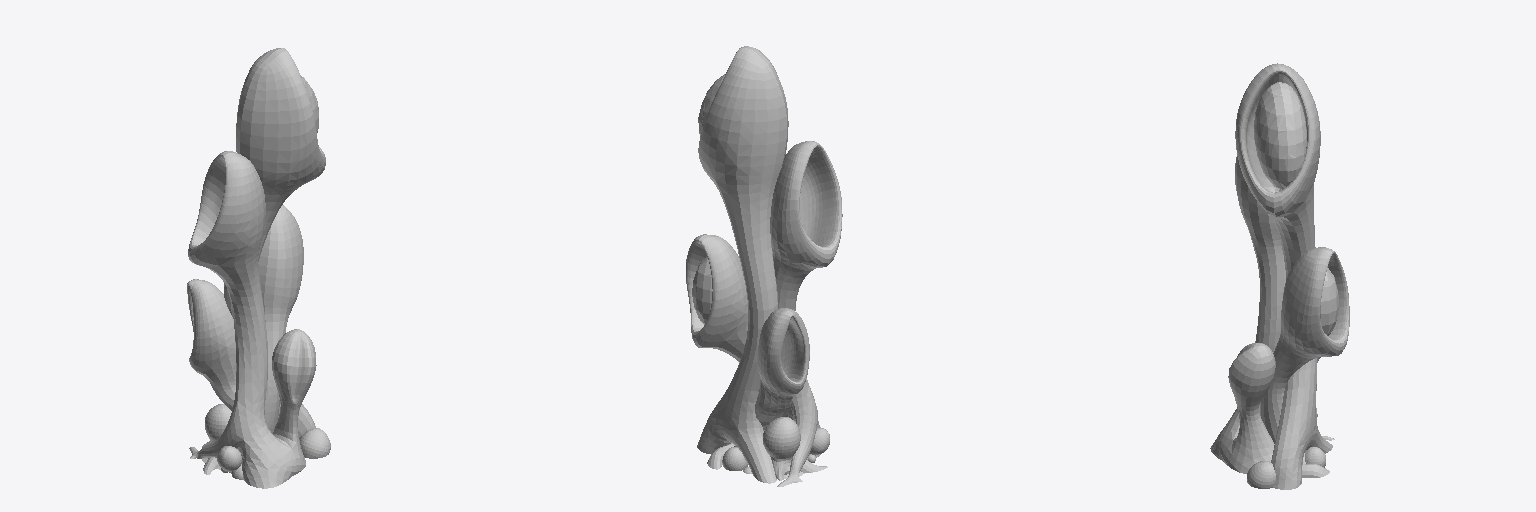
The model's file is tree3.obj.
3 renders of one model, left to right at view 1: azimuth 30°, elevation 25°; view 2: azimuth 150°, elevation 25°; view 3: azimuth 270°, elevation 25°, orthographic.
Parts seen in each view (by area): view 1: AlienPlant01; view 2: AlienPlant01, Mball; view 3: AlienPlant01, Mball.
Boxes of the visible parts, x1,y1,x2,y2 form: AlienPlant01: [187, 48, 330, 488]; AlienPlant01: [686, 46, 842, 486]; Mball: [692, 74, 724, 324]; AlienPlant01: [1210, 63, 1349, 489]; Mball: [1254, 82, 1338, 335].
Size of the model in its own units: 11.71 by 34.03 by 10.66.